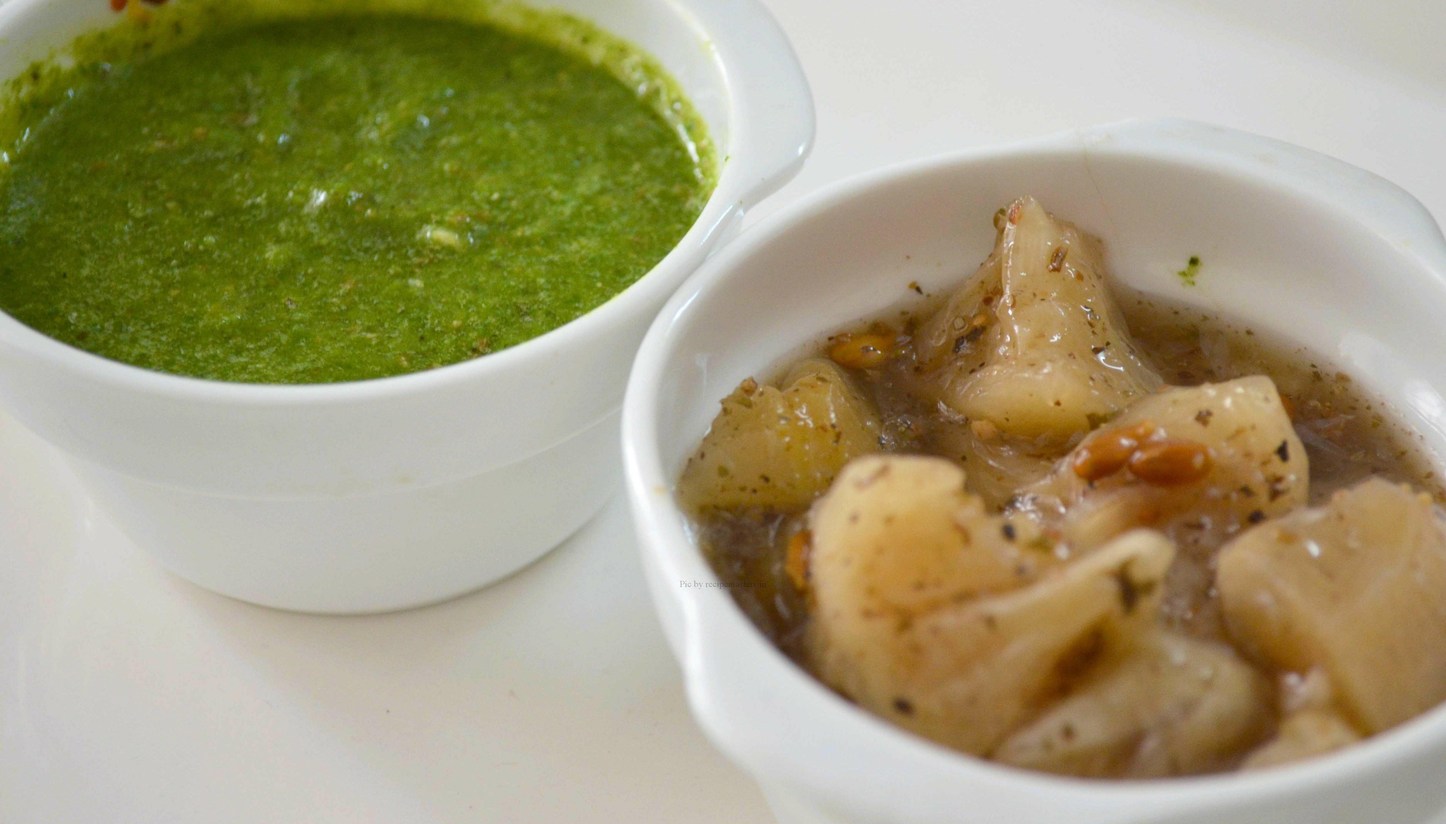GreenChutney: (0, 0, 702, 383)
